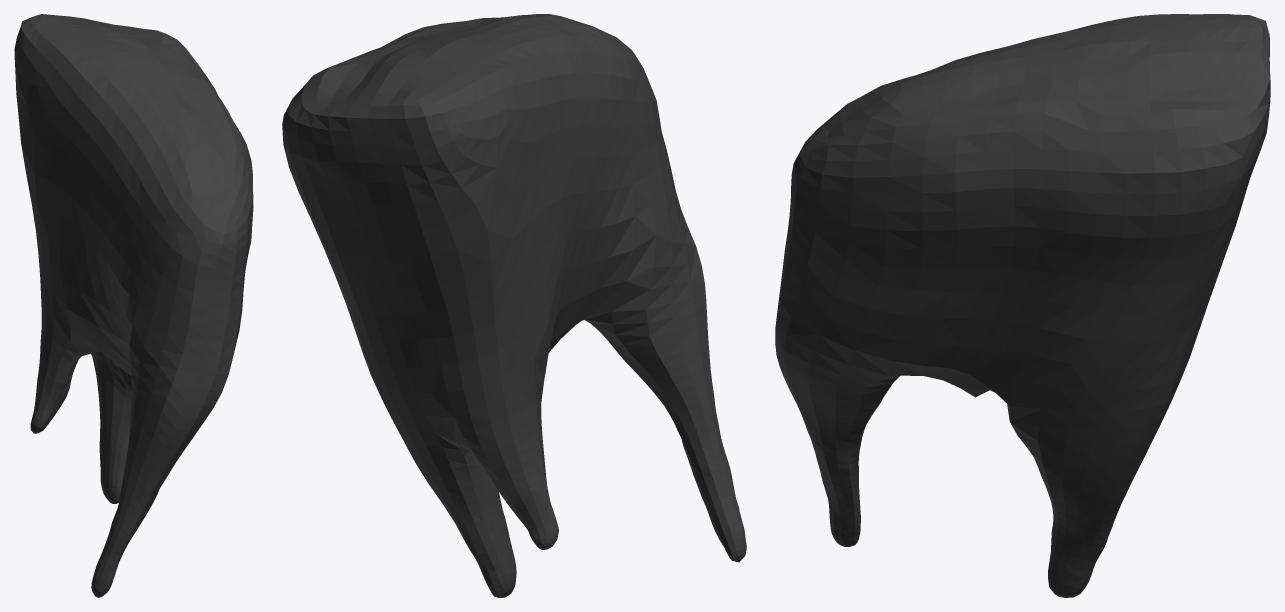
Rendered from L_mand_P2.glb.
3 renders of one model, left to right at view 1: azimuth 30°, elevation 25°; view 2: azimuth 150°, elevation 25°; view 3: azimuth 270°, elevation 25°, orthographic. The views are drawn at different scales.
Parts seen in each view (by area): view 1: L_mand_P2; view 2: L_mand_P2; view 3: L_mand_P2.
Boxes of the visible parts, box(x1,y1,x2,y2) form: L_mand_P2: box(14, 14, 253, 597); L_mand_P2: box(282, 14, 746, 597); L_mand_P2: box(775, 14, 1270, 597).
Size of the model in its own units: 0.1148 by 0.2187 by 0.1674.
1 material, 1 textured.
